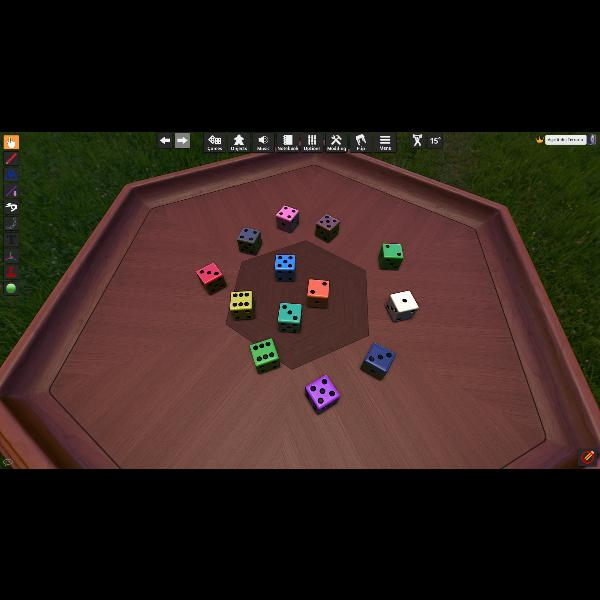d6: (305, 374, 339, 412), (360, 343, 393, 381), (250, 338, 280, 374), (386, 290, 418, 322), (196, 262, 224, 294), (237, 226, 263, 256), (230, 290, 254, 320), (314, 214, 338, 244), (277, 302, 301, 332), (379, 242, 403, 270), (307, 278, 329, 308), (276, 204, 298, 232), (274, 254, 296, 280)
